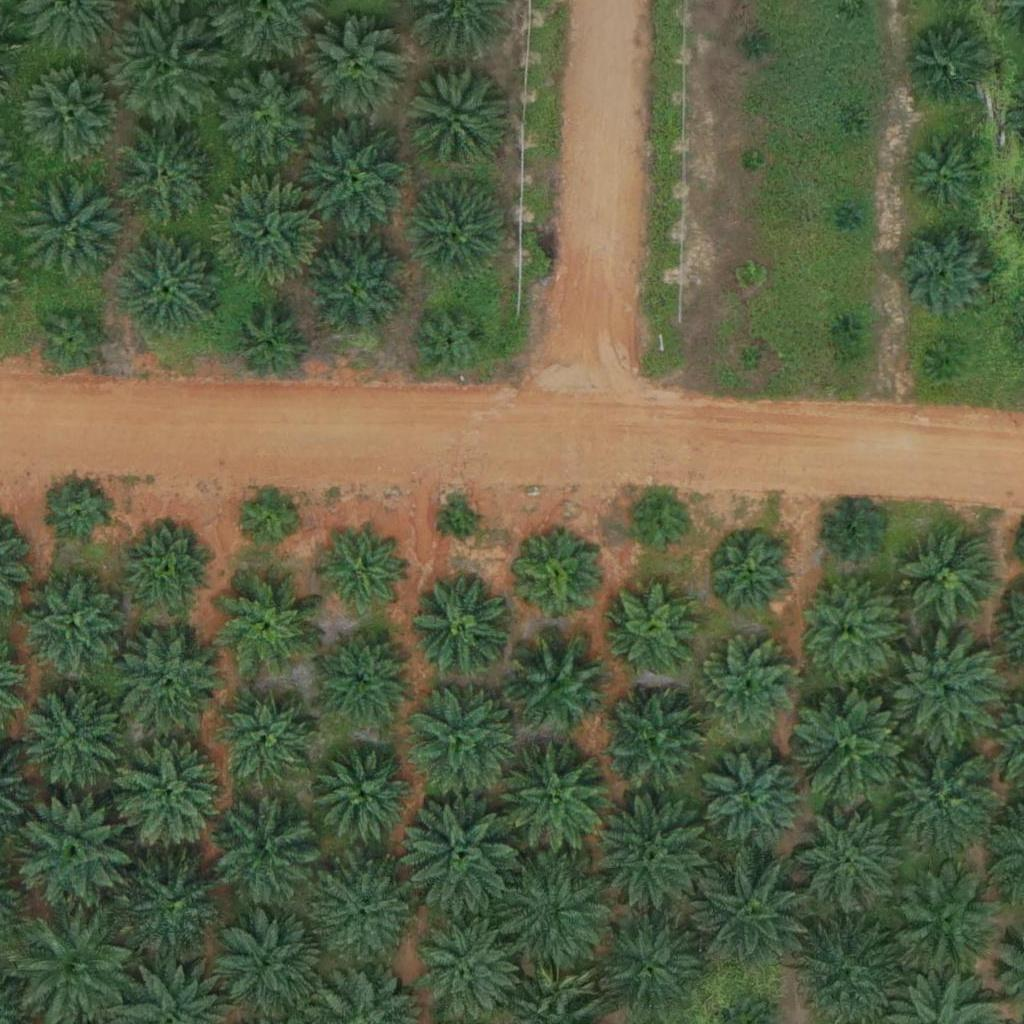Kelapa_Sawit: (13, 791, 138, 917), (396, 795, 521, 921), (489, 852, 614, 978), (585, 794, 710, 920), (690, 853, 815, 979), (791, 684, 916, 810), (874, 733, 999, 859), (109, 734, 234, 859), (499, 743, 612, 857), (599, 684, 712, 798), (299, 121, 412, 234), (888, 633, 1001, 746), (889, 865, 1002, 978), (212, 182, 324, 295), (888, 218, 1000, 331), (107, 14, 219, 127), (405, 678, 517, 791), (699, 745, 811, 858), (790, 802, 902, 915), (306, 239, 406, 340), (115, 130, 215, 231), (119, 237, 219, 338), (22, 66, 122, 167), (22, 175, 122, 276), (23, 572, 123, 673), (23, 684, 123, 785), (118, 629, 218, 730), (126, 856, 226, 957), (220, 576, 320, 677), (215, 691, 315, 792), (216, 805, 316, 906), (220, 909, 320, 1010), (312, 628, 412, 729), (314, 744, 414, 845), (311, 860, 411, 961), (695, 638, 795, 739), (799, 579, 899, 680), (899, 527, 999, 628), (404, 67, 504, 167), (409, 181, 509, 281), (310, 20, 410, 120), (216, 70, 316, 170), (412, 573, 512, 673), (507, 631, 607, 731), (906, 129, 994, 218), (903, 21, 991, 109), (317, 528, 405, 616), (610, 583, 698, 671), (709, 532, 797, 620), (129, 525, 216, 613), (516, 537, 603, 625), (415, 303, 490, 379), (233, 309, 308, 384), (37, 303, 112, 378), (821, 502, 884, 565), (50, 482, 112, 545), (236, 483, 298, 546), (631, 495, 693, 558), (928, 340, 966, 378), (443, 503, 480, 541), (838, 116, 863, 141), (744, 33, 769, 58), (740, 151, 765, 176), (736, 263, 761, 288), (739, 347, 764, 372), (839, 205, 864, 230), (832, 315, 857, 340)
